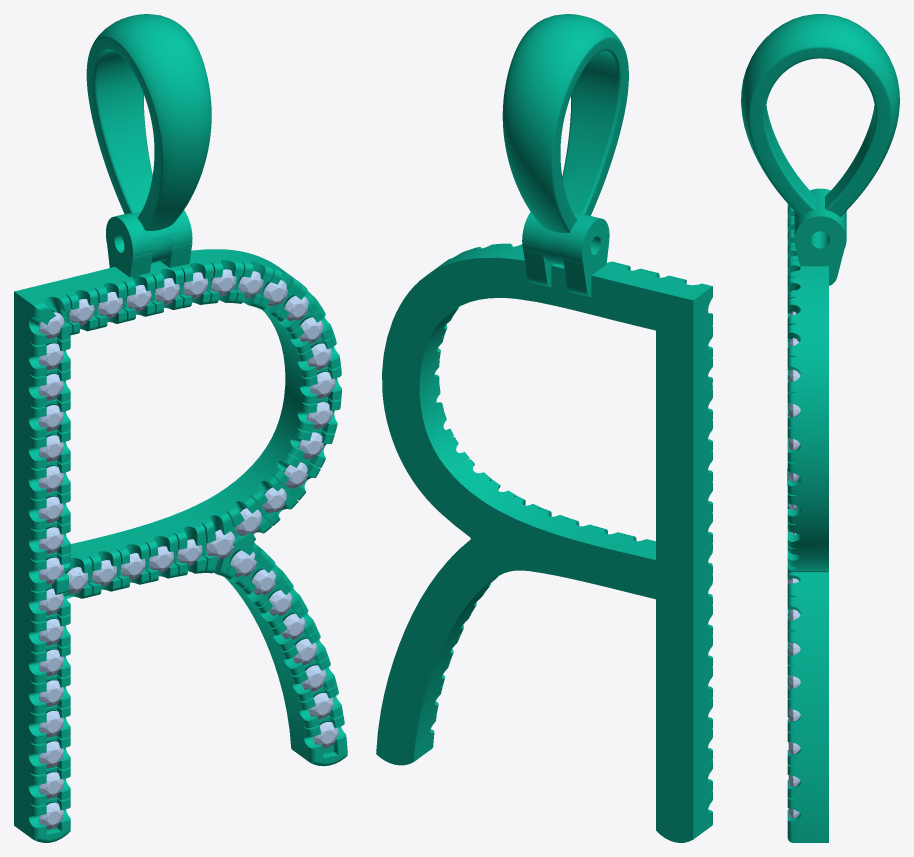
3 views of the same model, side by side, from view 1: azimuth 30°, elevation 25°; view 2: azimuth 150°, elevation 25°; view 3: azimuth 270°, elevation 25° (orthographic). The views are drawn at different scales.
Visible parts, largest first — view 1: Rhinoceros Binary STL ( May 22 2017 ) (×5); view 2: Rhinoceros Binary STL ( May 22 2017 ) (×5); view 3: Rhinoceros Binary STL ( May 22 2017 ) (×3).
Boxes of the visible parts, <box> form: Rhinoceros Binary STL ( May 22 2017 ) (×5): <box>14,14,347,842</box>; Rhinoceros Binary STL ( May 22 2017 ) (×5): <box>376,14,712,842</box>; Rhinoceros Binary STL ( May 22 2017 ) (×3): <box>741,14,899,842</box>.
Bounding box in the file's own units: 1.53 × 3.63 × 0.6961.
